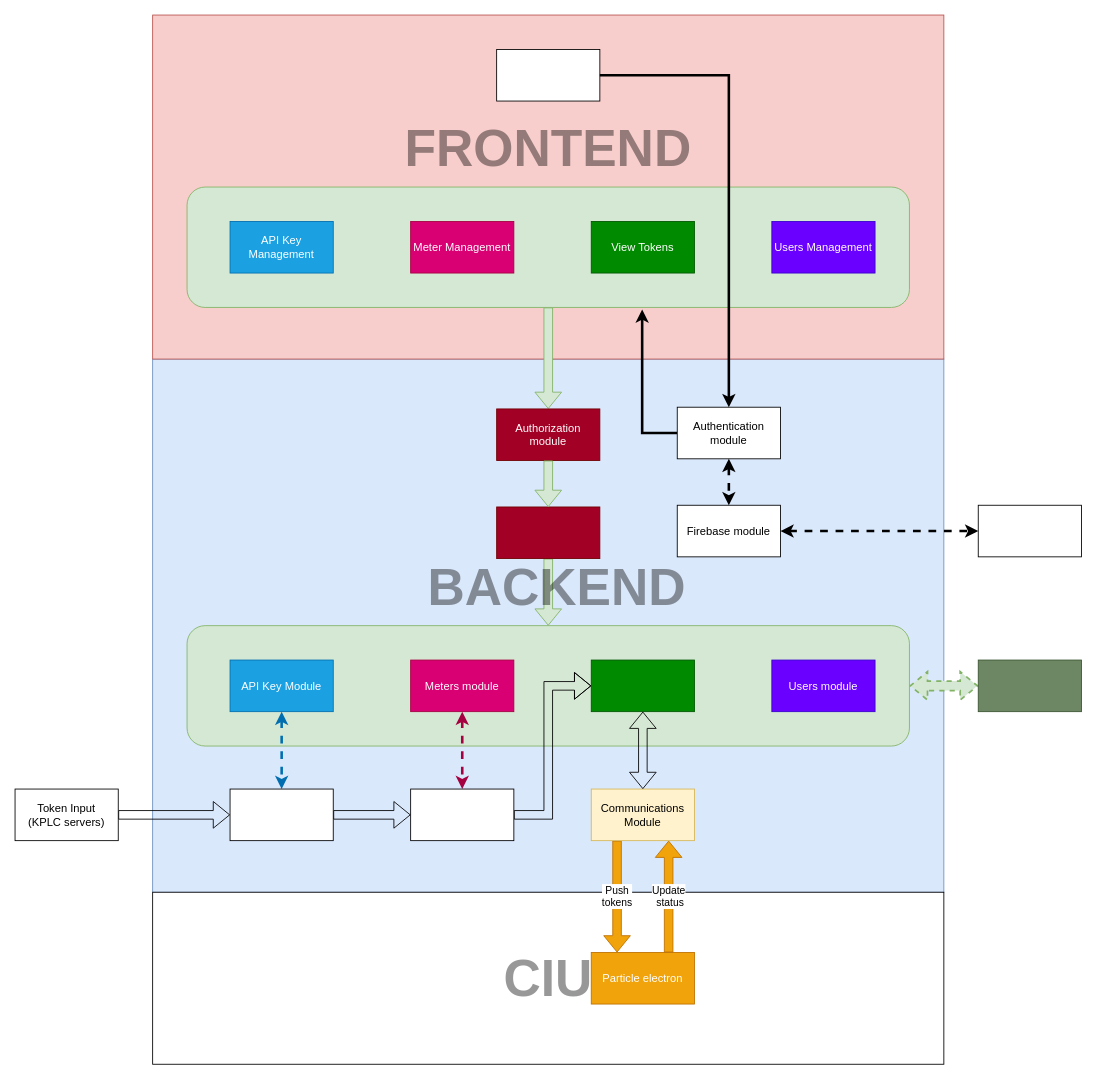
Image size: 1097x1079. Some labels were removed from this diagram. The centre of each missing label's shape, as x and y in pixels:
"API Key Validator" belongs at (281,814).
"Google Firebase" belongs at (1029,530).
"GraphQL Resolvers" belongs at (548,532).
"Login" belongs at (548,75).
"Meter Number Validator" belongs at (462,814).
"MongoDB" belongs at (1029,685).
"Tokens Module" belongs at (642,685).
